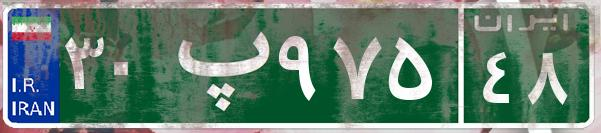0: (110, 28, 158, 105)
3: (57, 26, 110, 107)
4: (475, 38, 525, 113)
5: (385, 28, 445, 110)
7: (330, 28, 385, 110)
8: (525, 38, 570, 115)
9: (273, 28, 330, 110)
پ: (158, 15, 273, 115)
